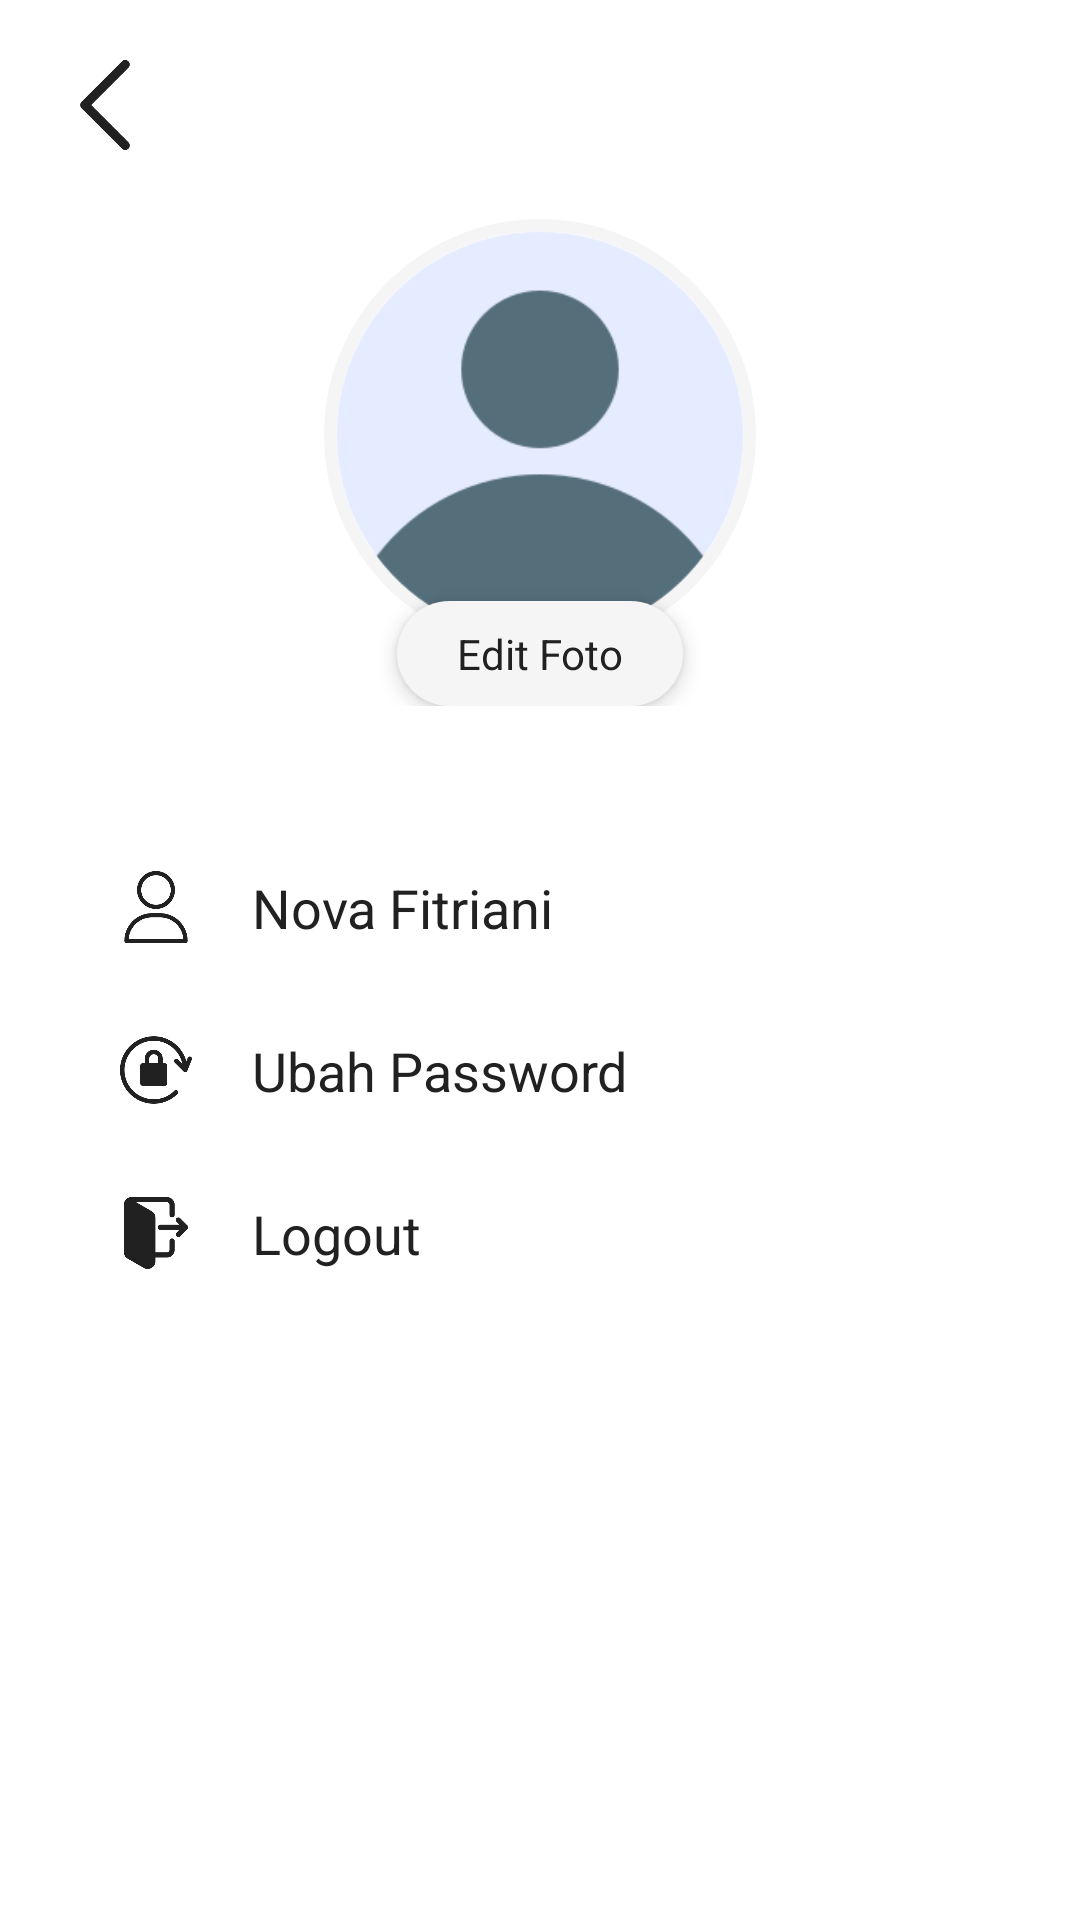

Where to tap for icons on this 1080×1920 app screen, as [x,y]:
back: [105,105]
lock: [156,1070]
nama: [156,907]
